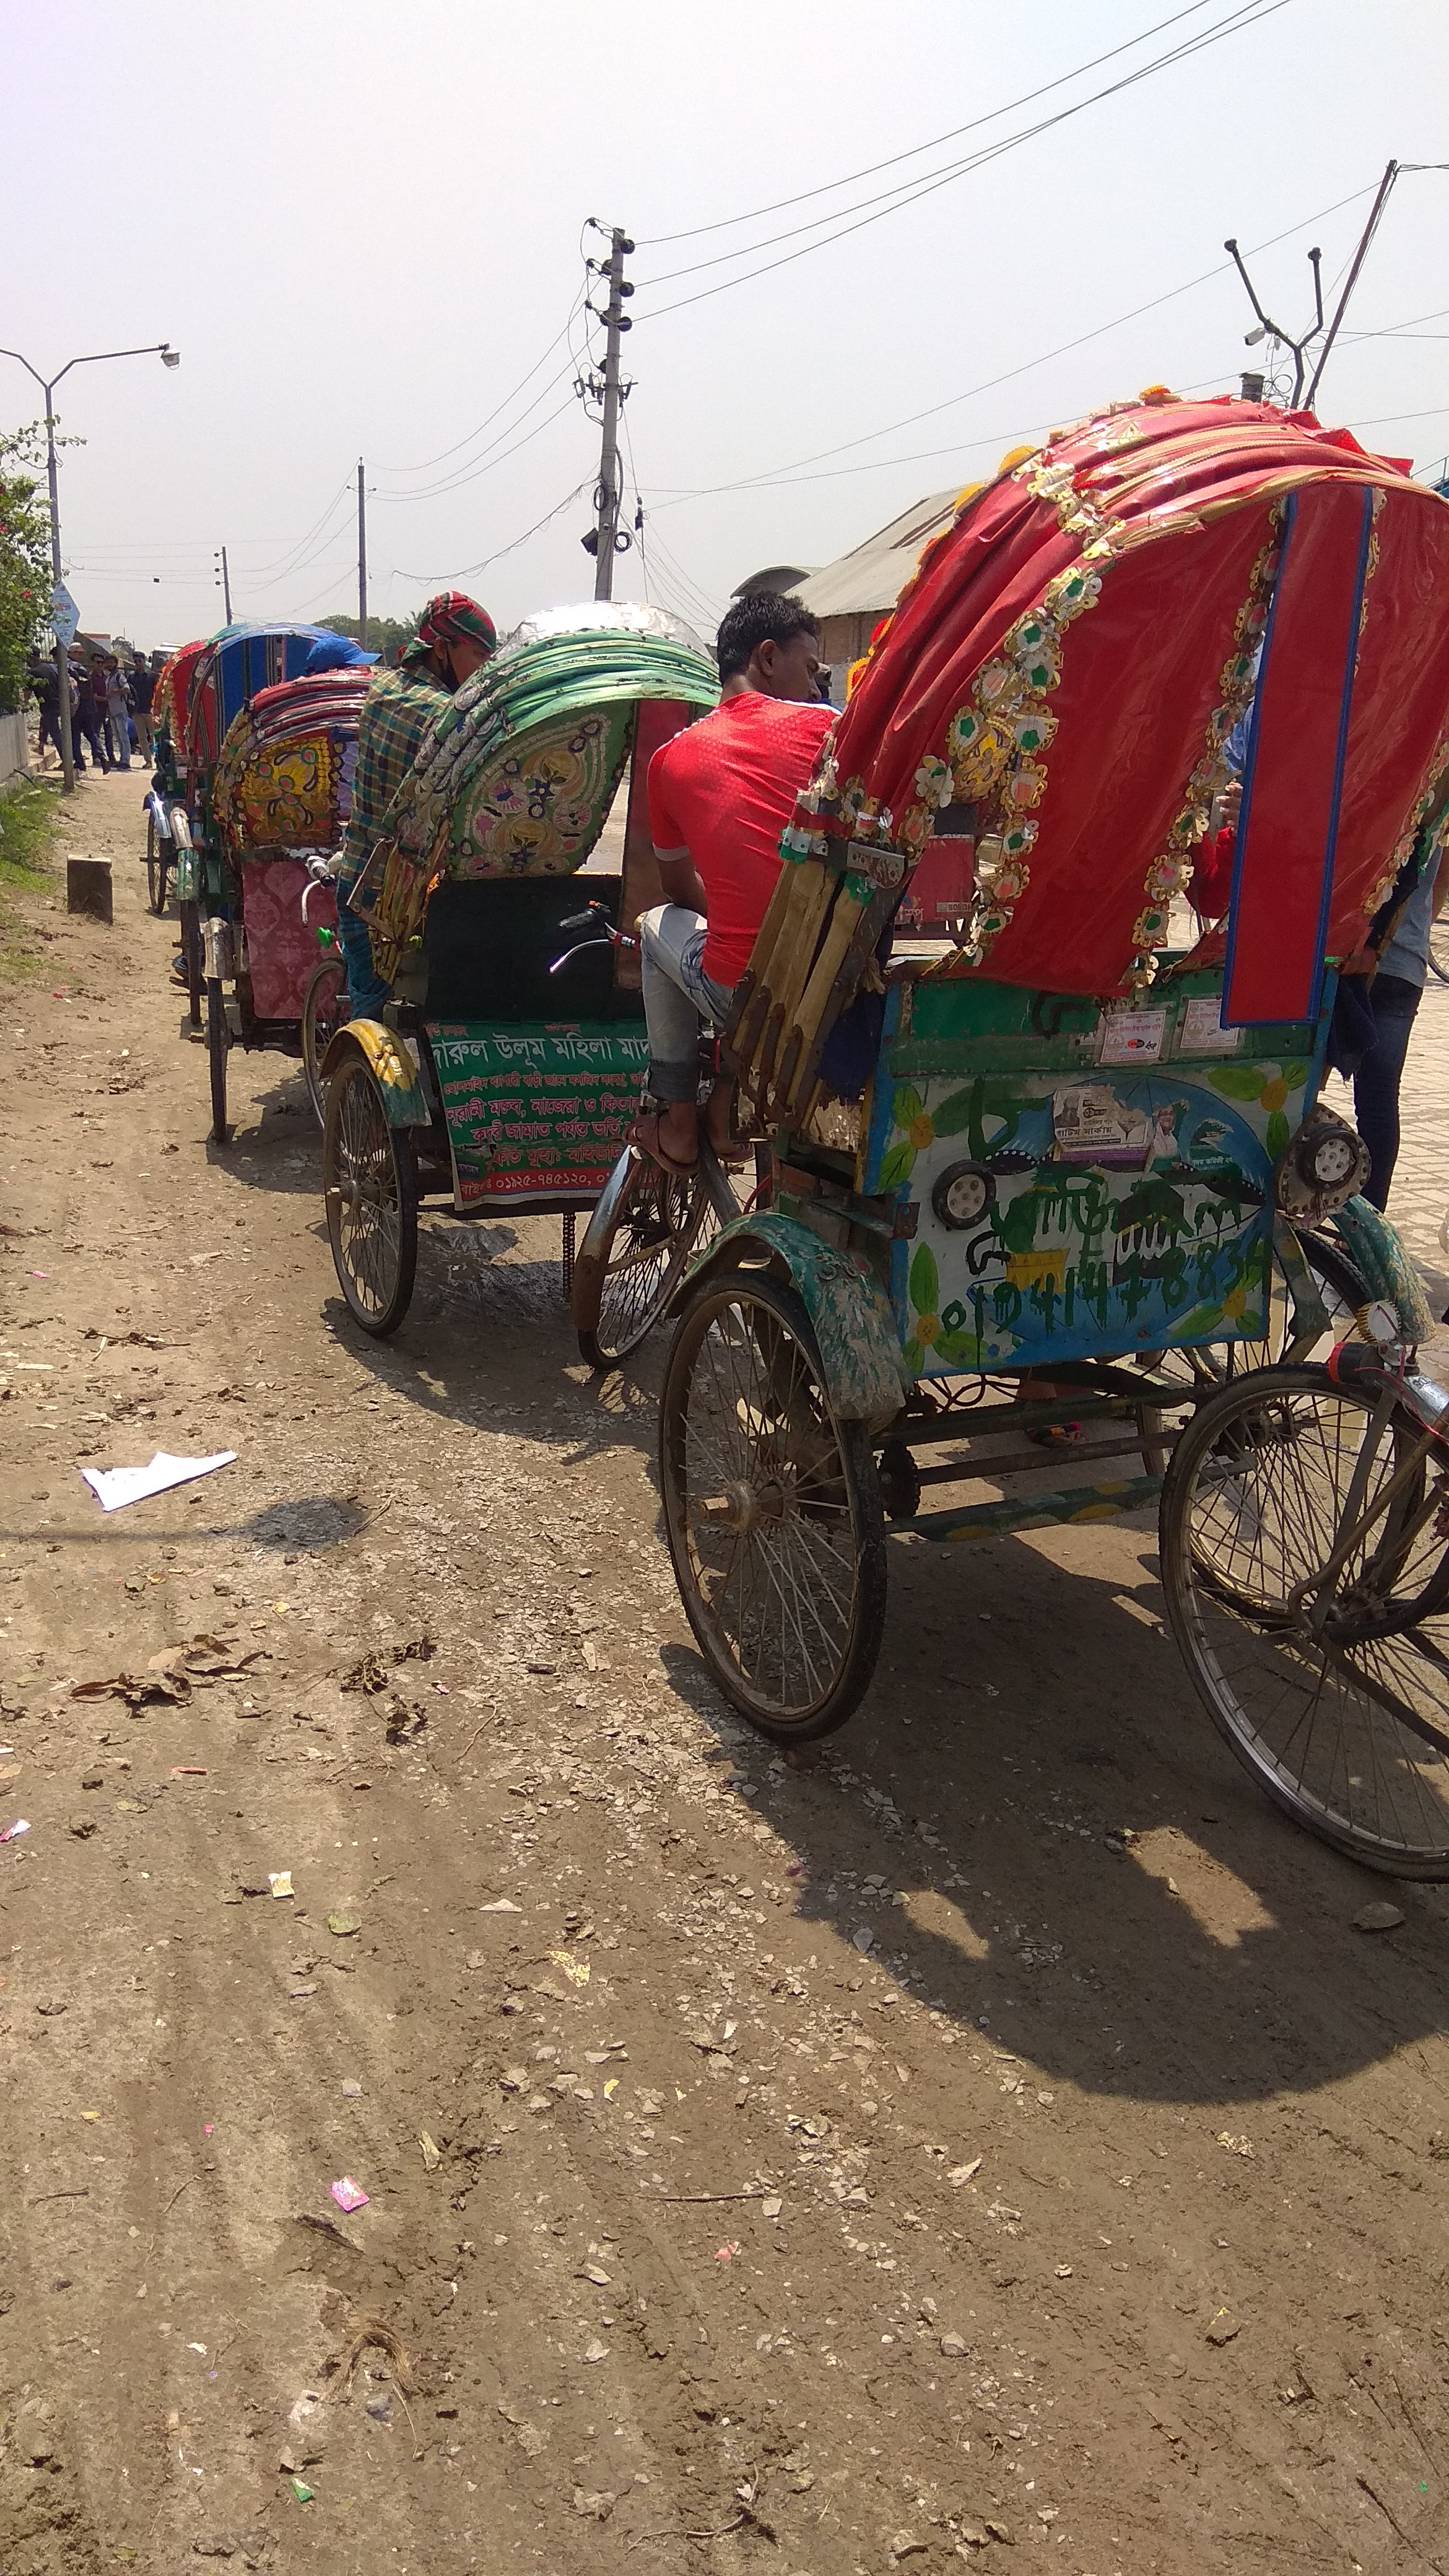Rickshaw: (711, 407, 1398, 1721), (347, 563, 740, 1299), (207, 637, 432, 1065), (113, 612, 198, 870), (218, 566, 357, 718)
